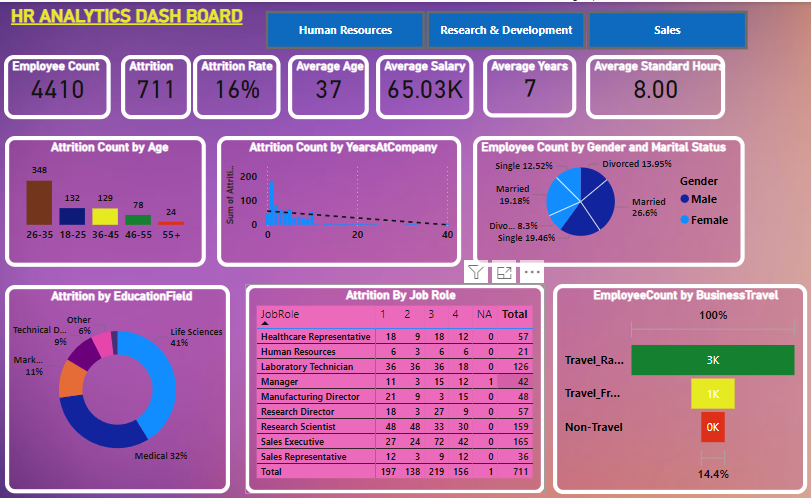

Layout of this report page (visuals, bound fields, positions):
{"tool":"powerbi","page":{"name":"Attrition data dash board","canvas":[980,600],"ordinal":0},"visuals":[{"type":"shape","title":"HR ANALYTICS DASH BOARD","box":[14.6,4,280,33.2],"z":0},{"type":"slicer","fields":{"Values":["Attrition data.Department"]},"box":[294.6,4,627.6,59.7],"z":1000},{"type":"card","title":"Employee Count","fields":{"Values":["Sum(Attrition data.EmployeeCount)"]},"box":[6,64,128,77],"z":2000},{"type":"card","title":"Attrition","fields":{"Values":["Sum(Attrition data.Attrition Count)"]},"box":[146,64,84,77],"z":3000},{"type":"card","title":"Attrition Rate","fields":{"Values":["Attrition data.Attrition Rate"]},"box":[233,64,105,77],"z":4000},{"type":"card","title":"Average Age","fields":{"Values":["Avg(Attrition data.Age)"]},"box":[347,64,97,77],"z":5000},{"type":"card","title":"Average Salary","fields":{"Values":["Avg(Attrition data.MonthlyIncome)"]},"box":[452,64,117,77],"z":6000},{"type":"card","title":"Average Years ","fields":{"Values":["Avg(Attrition data.YearsAtCompany)"]},"box":[581,64,112,75],"z":7000},{"type":"donutChart","title":" Attrition by EducationField","fields":{"Y":["CountNonNull(Attrition data.Attrition)"],"Category":["Attrition data.EducationField"]},"box":[7,340,270,250],"z":8000},{"type":"columnChart","title":" Attrition Count by Age ","fields":{"Category":["Attrition data.Age Slab"],"Y":["Sum(Attrition data.Attrition Count)"]},"box":[6.6,160.5,241.5,156.6],"z":9000},{"type":"pivotTable","title":"Attrition By Job Role","fields":{"Rows":["Attrition data.JobRole"],"Values":["Sum(Attrition data.Attrition Count)"],"Columns":["Attrition data.JobSatisfaction"]},"box":[295,338,360,252],"z":10000},{"type":"lineClusteredColumnComboChart","title":" Attrition Count by YearsAtCompany","fields":{"Category":["Attrition data.YearsAtCompany"],"Y":["Sum(Attrition data.Attrition Count)"]},"box":[261.4,160.5,293.2,156.6],"z":11000},{"type":"pieChart","title":" Employee Count by Gender and Marital Status","fields":{"Category":["Attrition data.Gender"],"Series":["Attrition data.MaritalStatus"],"Y":["Sum(Attrition data.EmployeeCount)"]},"box":[569.2,160.5,326.4,156.6],"z":12000},{"type":"funnel","title":"EmployeeCount by BusinessTravel","fields":{"Category":["Attrition data.BusinessTravel"],"Y":["Sum(Attrition data.EmployeeCount)"]},"box":[664.8,338.4,304.8,252],"z":13000},{"type":"card","title":"Average  Standard Hours","fields":{"Values":["Avg(Attrition data.StandardHours)"]},"box":[704,64,167,77],"z":14000}]}

Visuals, with their boxes in screenshot pixels (x1, y1, x2, y2), scaled from the page's 980x600 canvas onto the 811x498 screenshot:
"HR ANALYTICS DASH BOARD" shape: [12,3,244,31]
slicer - Attrition data.Department: [244,3,763,53]
"Employee Count" card: [5,53,111,117]
"Attrition" card: [121,53,190,117]
"Attrition Rate" card: [193,53,280,117]
"Average Age" card: [287,53,367,117]
"Average Salary" card: [374,53,471,117]
"Average Years " card: [481,53,573,115]
" Attrition by EducationField" donutChart: [6,282,229,490]
" Attrition Count by Age " columnChart: [5,133,205,263]
"Attrition By Job Role" pivotTable: [244,281,542,490]
" Attrition Count by YearsAtCompany" lineClusteredColumnComboChart: [216,133,459,263]
" Employee Count by Gender and Marital Status" pieChart: [471,133,741,263]
"EmployeeCount by BusinessTravel" funnel: [550,281,802,490]
"Average  Standard Hours" card: [583,53,721,117]
